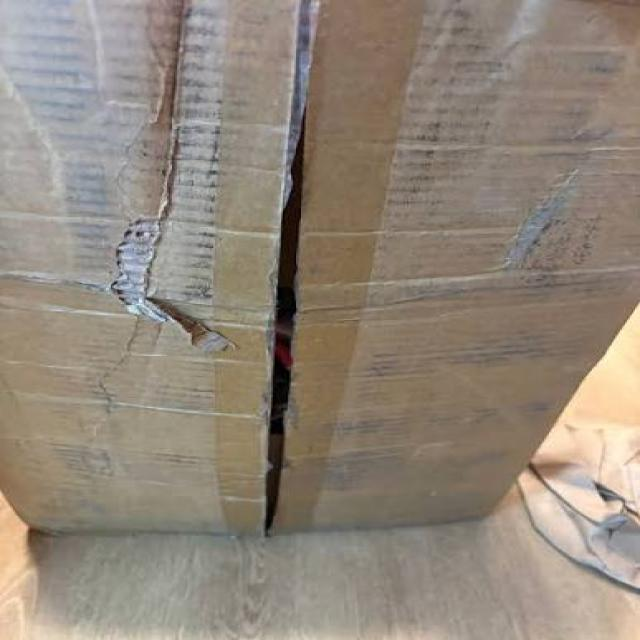package_damage: (238, 103, 317, 541)
